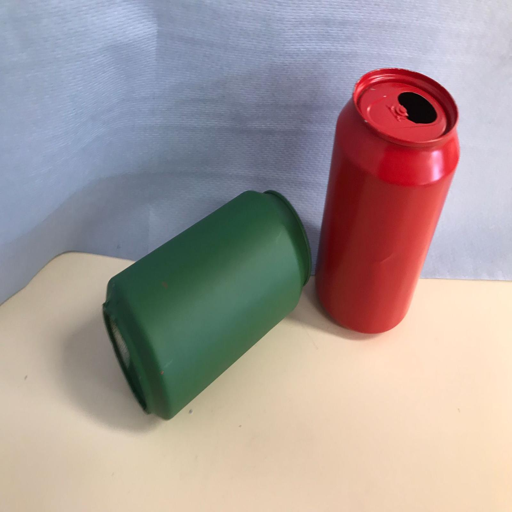Green_Can: (97, 189, 312, 420)
Red_Can: (313, 66, 460, 335)
